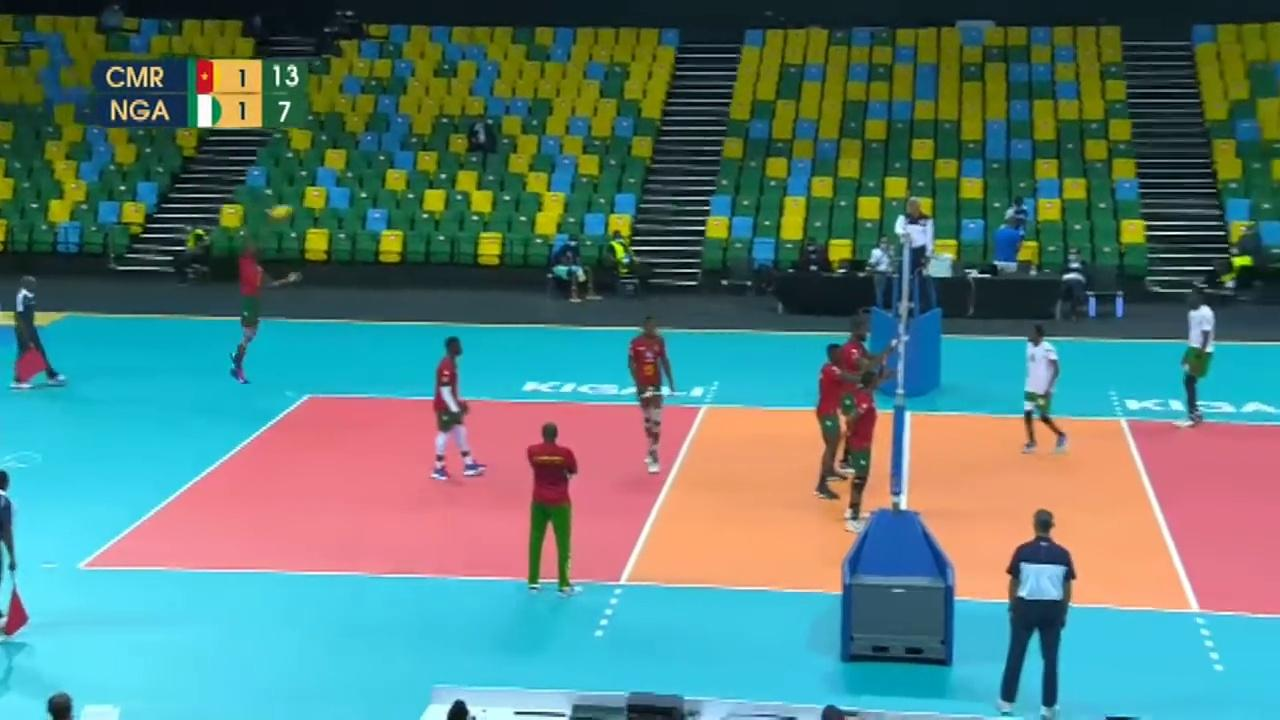player: (523, 425, 584, 592), (837, 311, 881, 477), (430, 341, 482, 480), (811, 340, 854, 504), (229, 219, 272, 380), (626, 317, 670, 471), (843, 367, 881, 543), (1022, 329, 1067, 453), (1182, 294, 1218, 423)
refree: (996, 511, 1080, 716), (12, 275, 68, 388), (885, 196, 940, 305), (0, 461, 32, 646)
